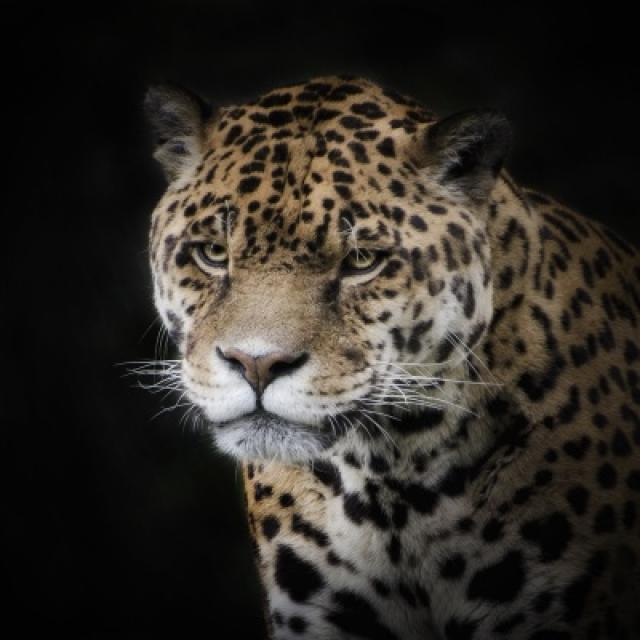Jaguar: (144, 75, 638, 638)
